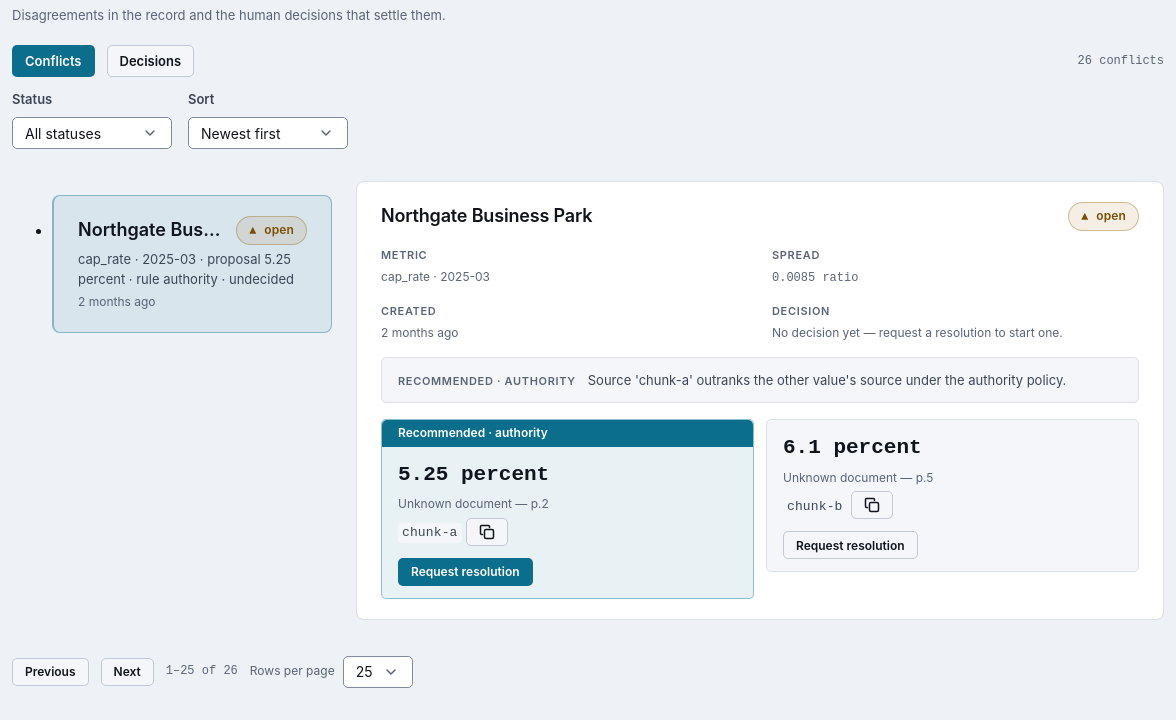
AdjudicationPage › drops the selection when the page is turned
(page scrolled)
Check: the heading "Northgate Business Park" is shown, box [381,205,592,228]
Click the button "Next". click: [127, 672]
box: [100,658,154,686]
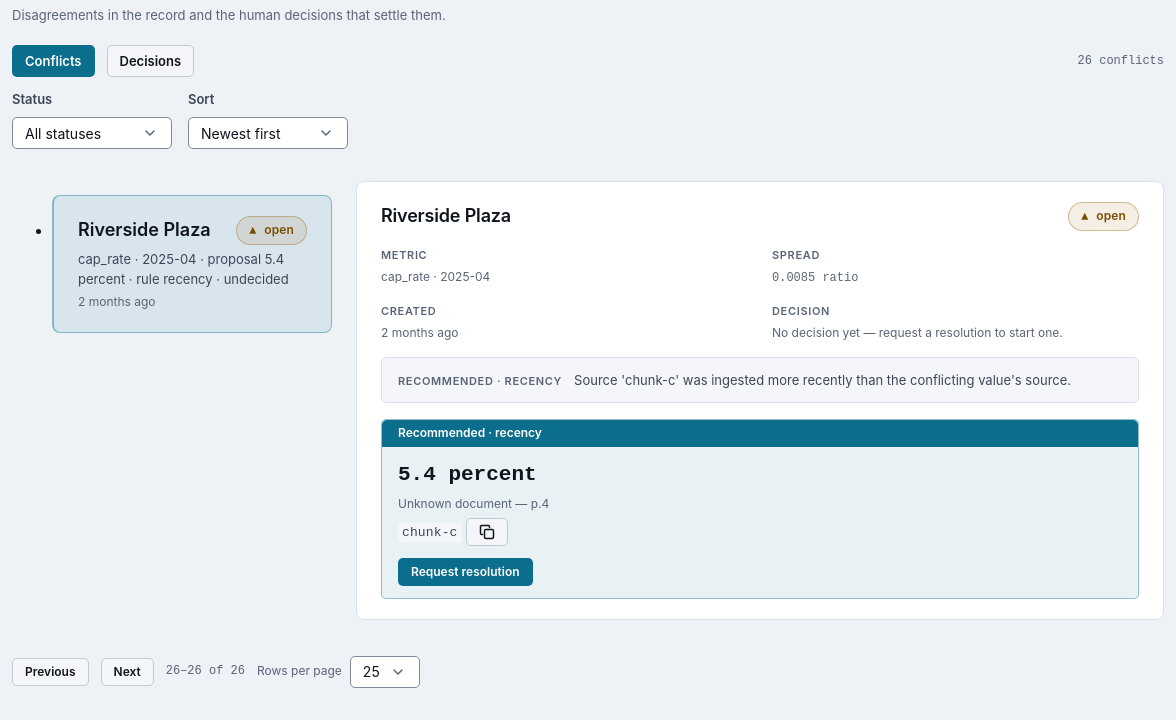
Check: the heading "Riverside Plaza" is shown, box [381,205,511,228]
